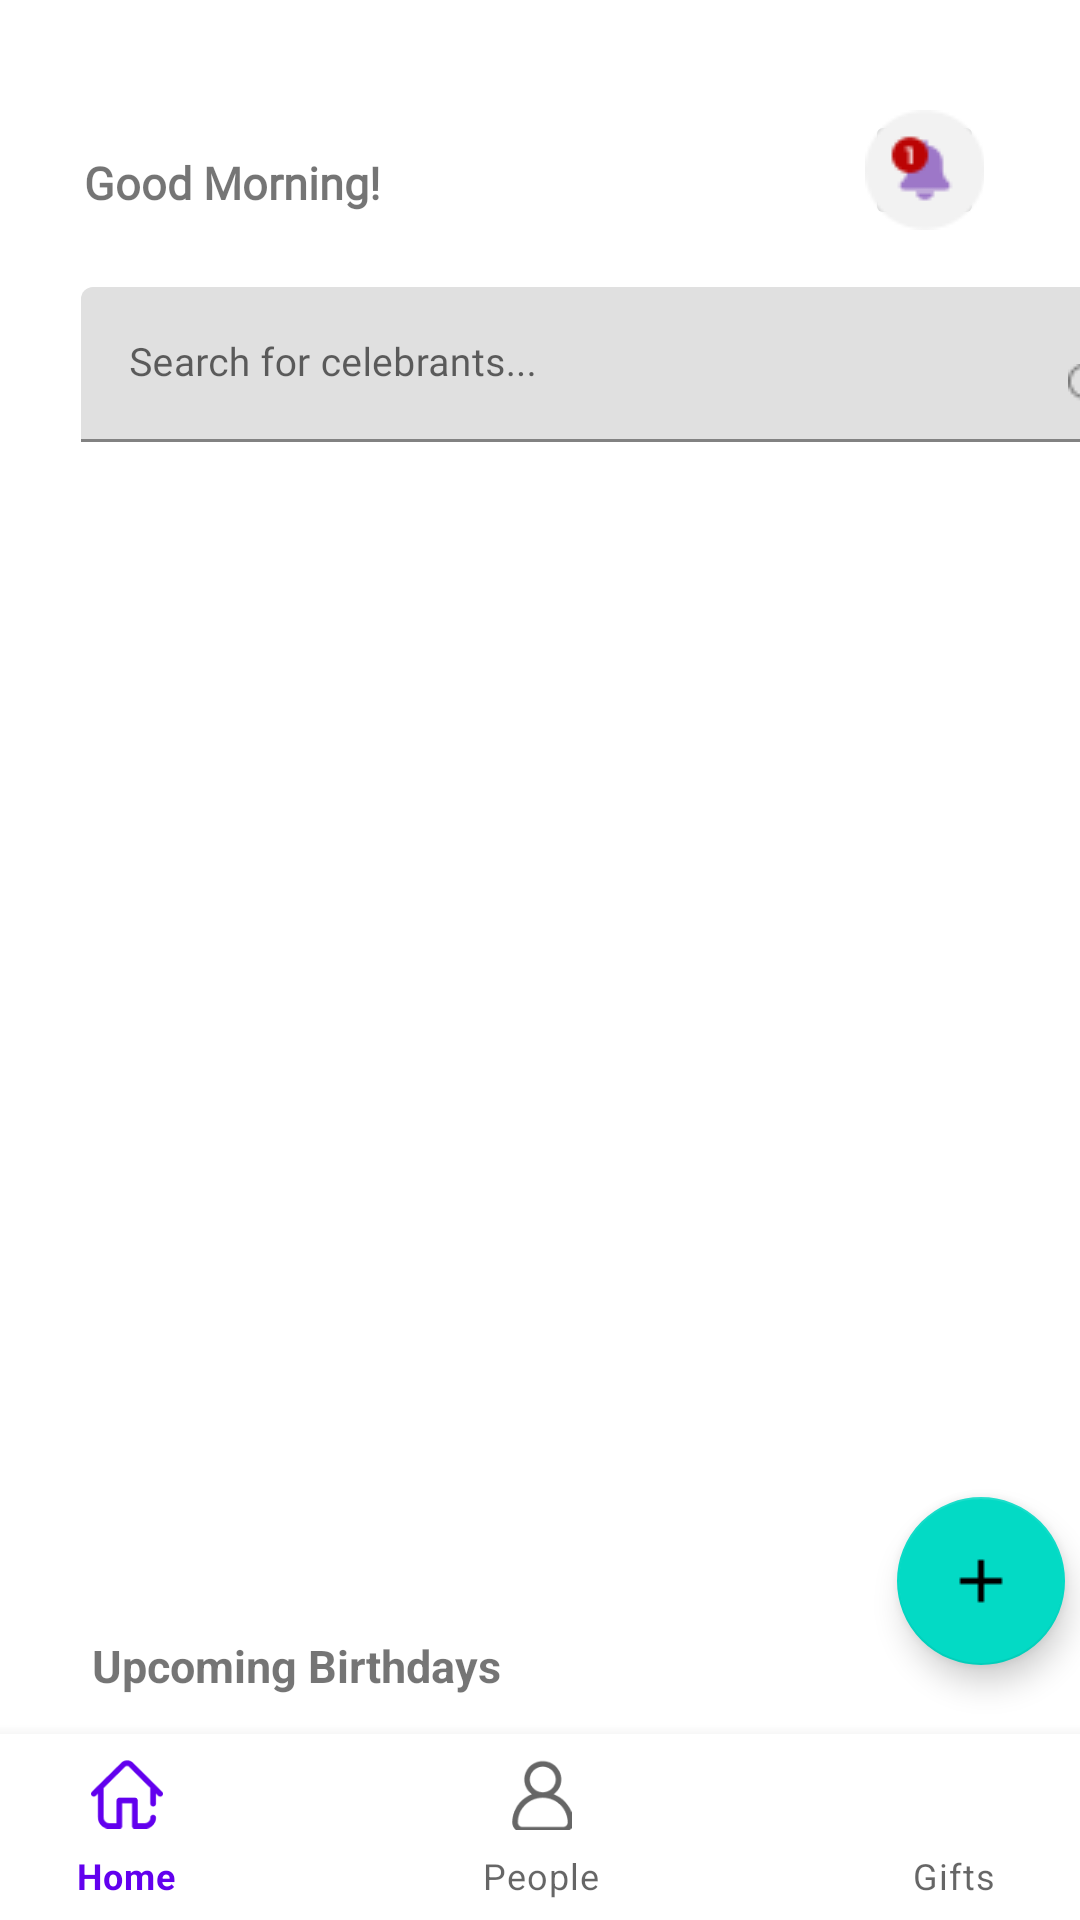

Icon click points for this 1080px x 1920px phone screenshot, format point (x, y):
fab: point (981, 1581)
notification group: point (924, 170)
